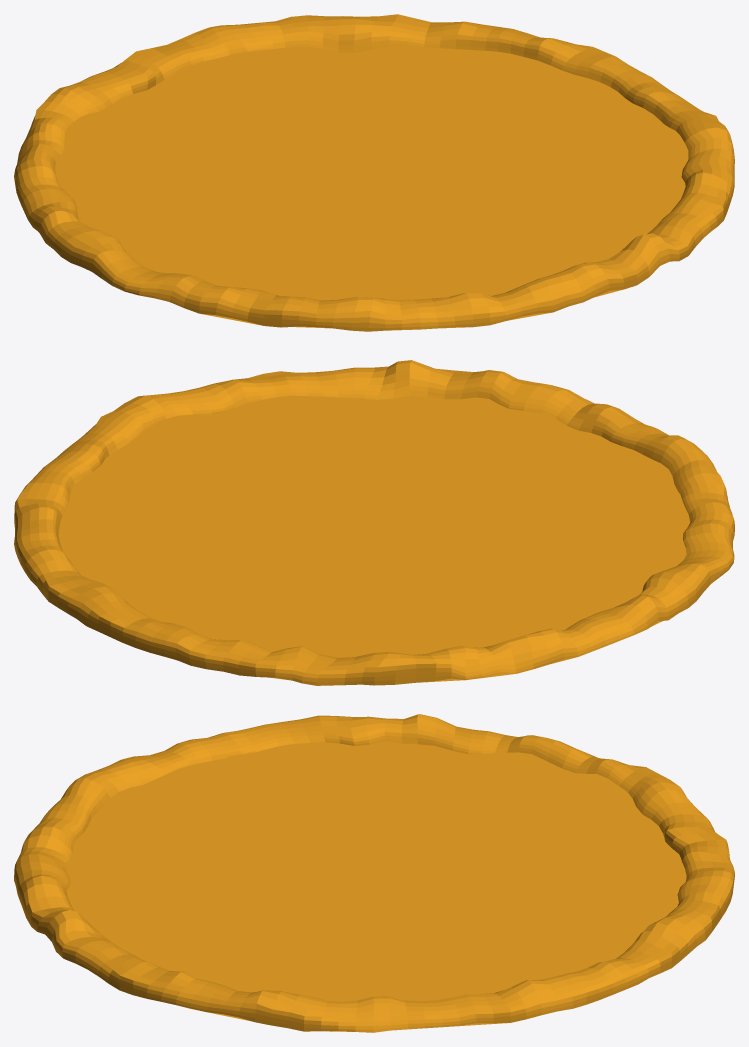
The model's file is Testo.glb.
3 views of the same model, one above another, from view 1: azimuth 30°, elevation 25°; view 2: azimuth 150°, elevation 25°; view 3: azimuth 270°, elevation 25° (orthographic).
Parts seen in each view (by area): view 1: Testo; view 2: Testo; view 3: Testo.
Part boxes in pixels (x1,y1,x2,y2): Testo: (14,14,734,331); Testo: (14,360,734,685); Testo: (14,714,734,1032).
Bounding box in the file's own units: 0.2597 × 0.0122 × 0.261.
